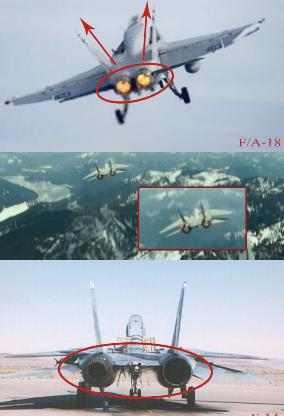EF2000: (0, 279, 277, 405), (157, 200, 232, 238), (82, 158, 129, 182)
F15: (4, 2, 264, 124)
